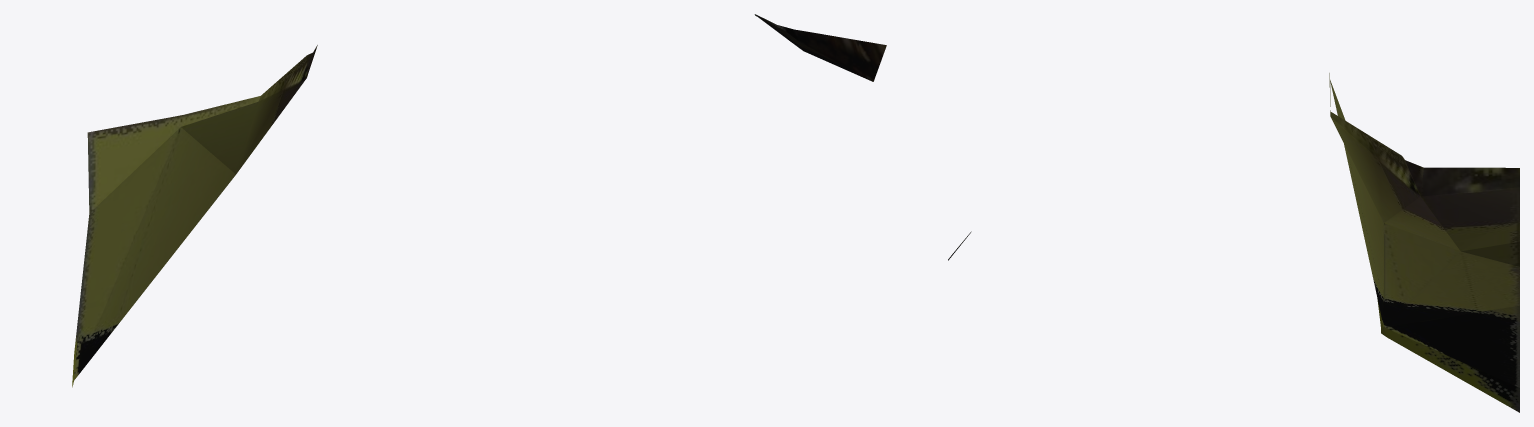
3 renders of one model, left to right at view 1: azimuth 30°, elevation 25°; view 2: azimuth 150°, elevation 25°; view 3: azimuth 270°, elevation 25°, orthographic. The views are drawn at different scales.
Size of the model in its own units: 1.67 by 1.29 by 1.67.
Materials: 1 (1 with a texture image).
